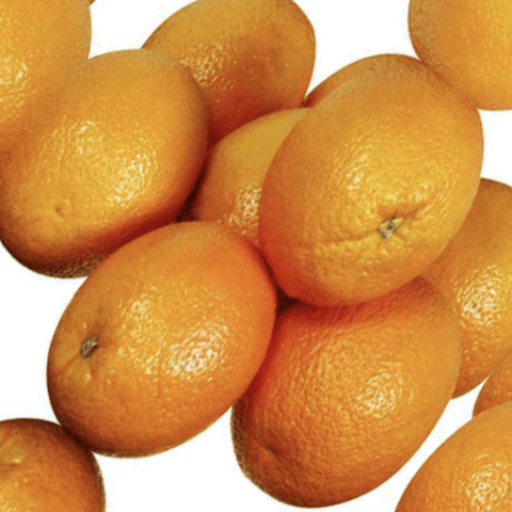orange: (0, 168, 321, 503), (174, 206, 512, 512), (213, 21, 512, 351), (0, 2, 256, 311)
